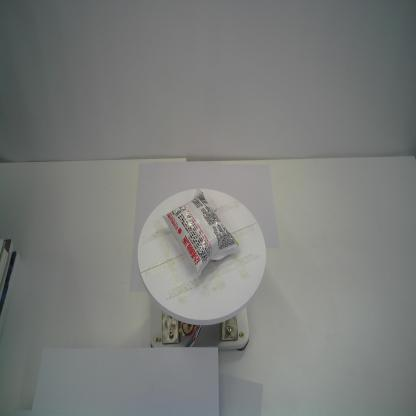Dessert: (162, 189, 240, 277)
